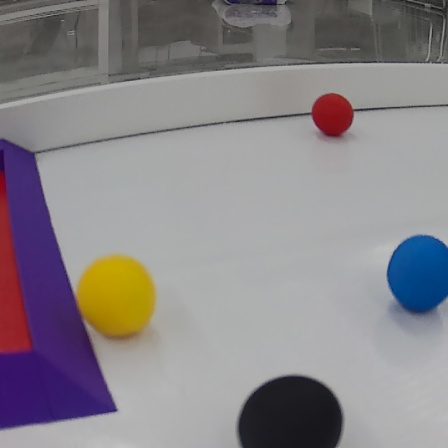black: (231, 373, 347, 448)
blue: (387, 232, 448, 320)
red: (305, 93, 357, 139)
red_aim: (2, 129, 120, 437)
yellow: (72, 251, 159, 343)
